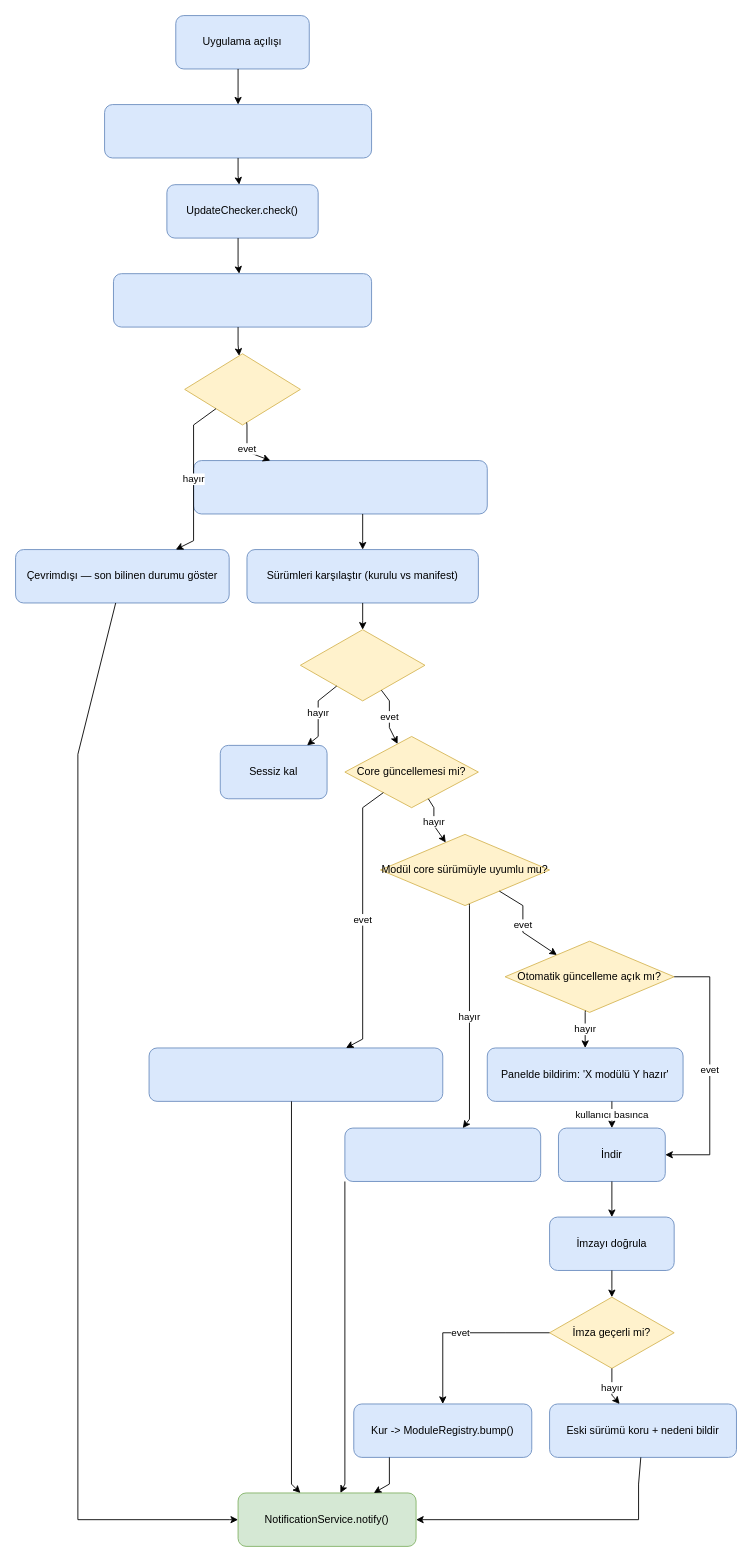
Some shapes in this 752 by 1562 pixel diagram are drawn without their labels. The shapes that lost their labels are listed below. From the top down, each one's centre as x and y in pixels, then its label:
At point 238,131: "ModuleRegistry.load() — kurulu modüller + sürümleri".
At point 242,300: "GET raw.githubusercontent.com/.../updates.json".
At point 242,389: "Ulaşılabildi mi?".
At point 340,487: "UpdateManifest ayrıştır {schema, core, adapters{}, modules{}}".
At point 362,665: "Yeni sürüm var mı?".
At point 295,1074: "Onay iste — üç platformu da etkiler, yeniden başlatma gerekir".
At point 442,1154: "Engelli durum: 'Core >= X gerekiyor'".
